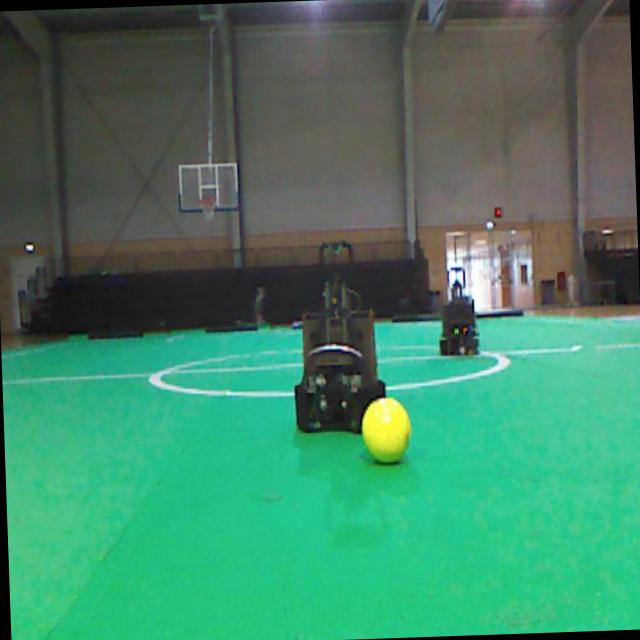ball: (361, 396, 410, 462)
robot: (294, 278, 384, 431), (440, 279, 478, 354)
